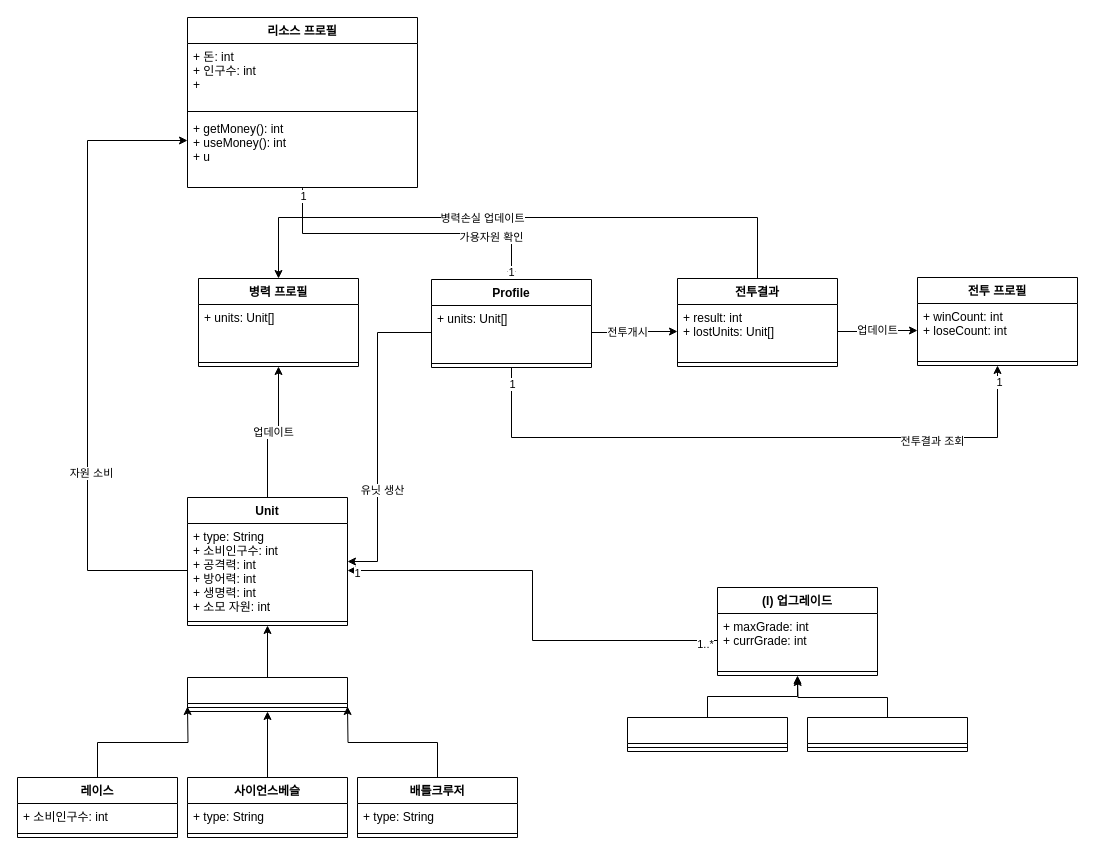
This 1095x855 diagram has some shape labels left out. The shapes that lost their labels are listed below. From the top down, each one's centre as x and y in pixels, then its label:
(267,694): Air
(707,734): 공격력Up
(887,734): 방어력Up
